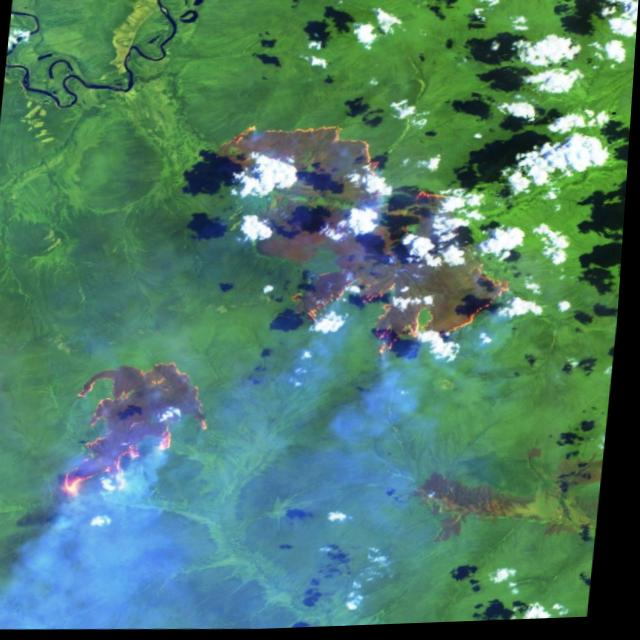fire: (197, 107, 571, 371), (62, 356, 217, 510)
